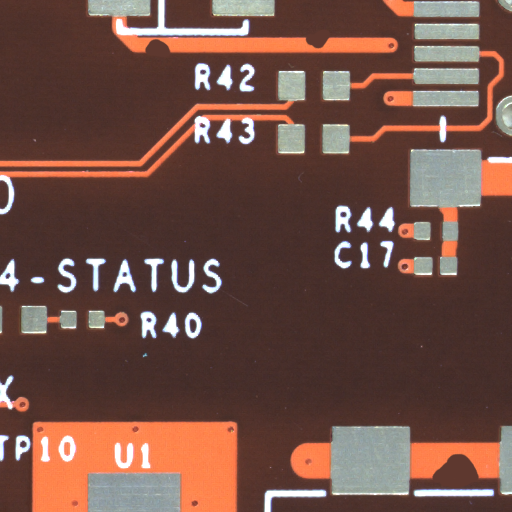Mouse_bite: (455, 469, 510, 502), (160, 47, 200, 69), (318, 40, 352, 61)
